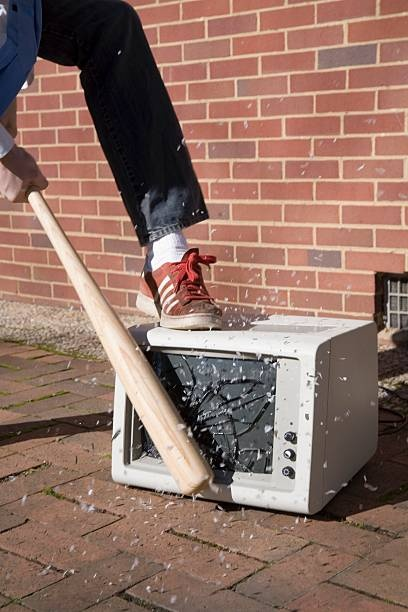bita: (31, 186, 214, 493)
